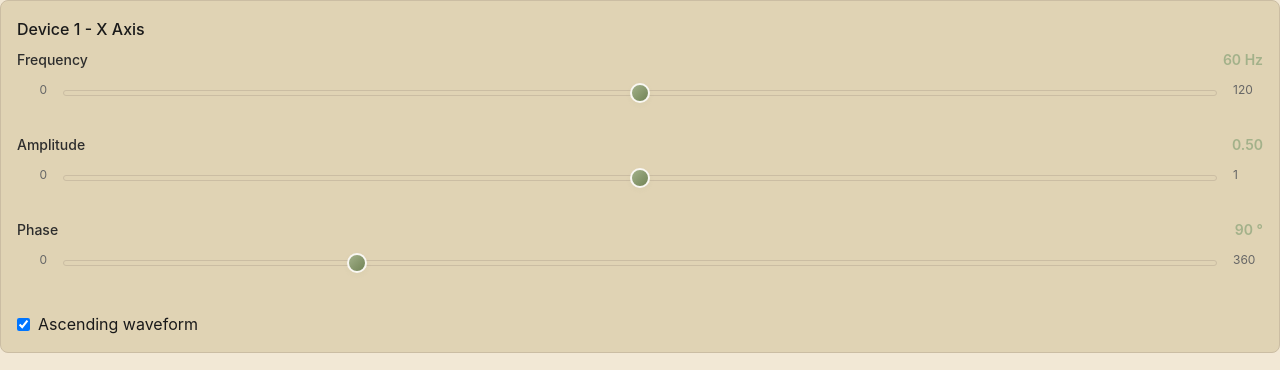
ChannelControl › Input Validation › clamps values to valid range for range inputs
// For range inputs, values are automatically clamped to min/max
Set the slider next to "120" to "150" at [640, 93], box 63,90 -> 1217,96
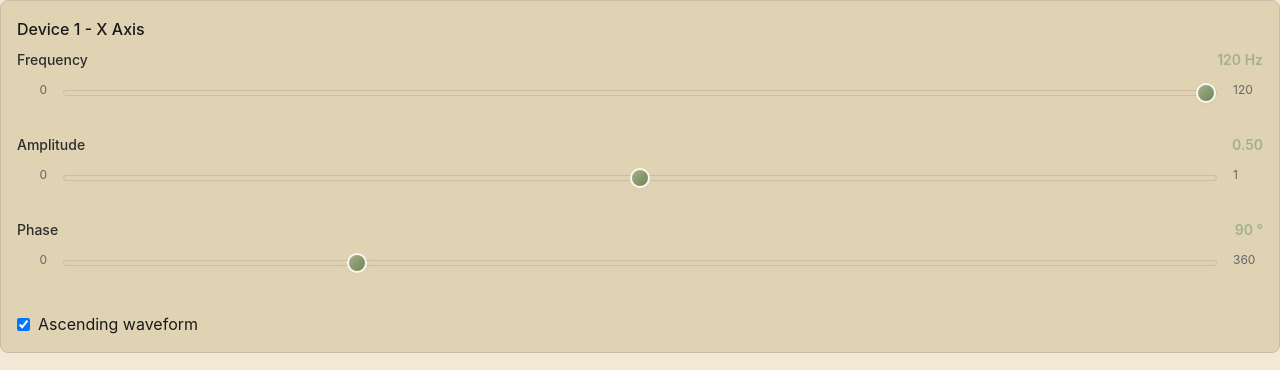
Result: the slider below "Frequency" holds "120" at 63,90 -> 1217,96
